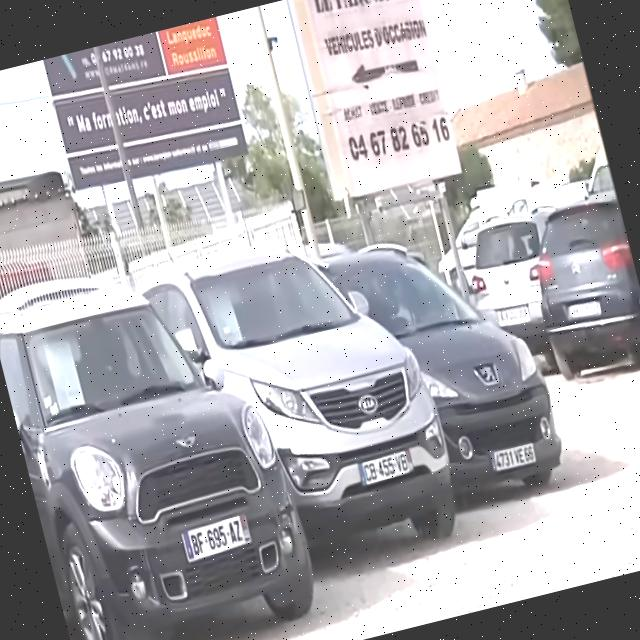EU: (180, 515, 253, 560), (358, 452, 416, 485)
France: (182, 529, 196, 559), (357, 460, 368, 484)
